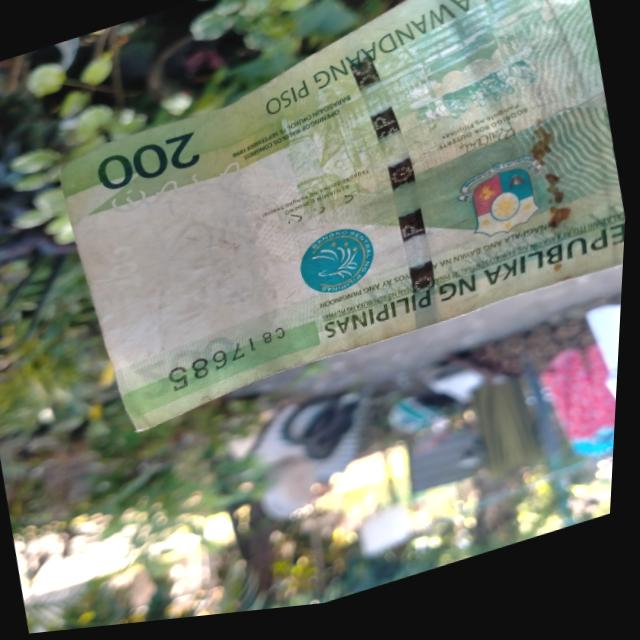security_thread: (322, 26, 462, 351)
see_through_mark: (101, 149, 269, 227)
serial_number: (165, 325, 305, 399)
value_watermark: (95, 237, 153, 308)
watermark: (121, 181, 321, 383)
